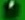black: (0, 0, 25, 20)
